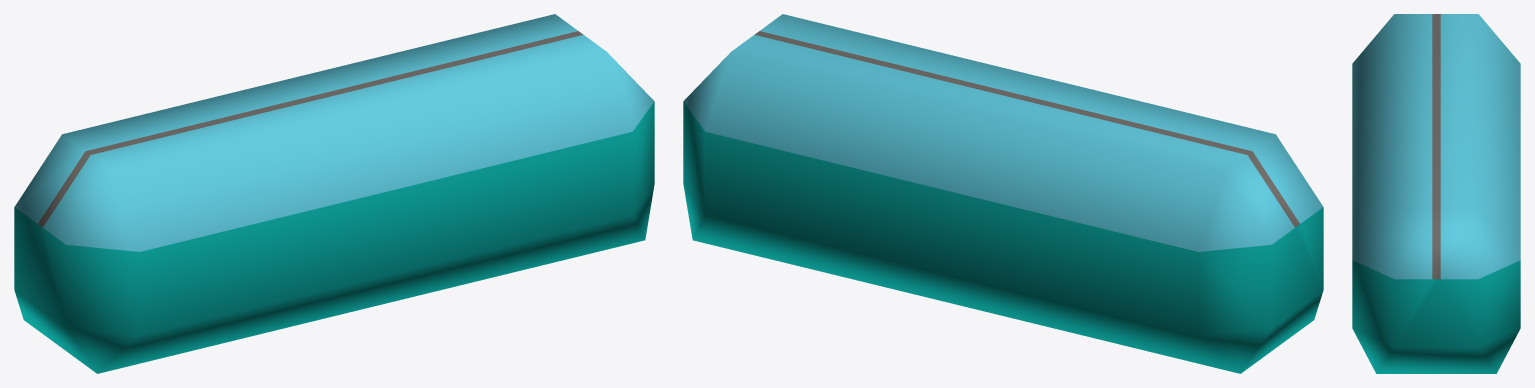
3 renders of one model, left to right at view 1: azimuth 30°, elevation 25°; view 2: azimuth 150°, elevation 25°; view 3: azimuth 270°, elevation 25°, orthographic. The views are drawn at different scales.
Parts seen in each view (by area): view 1: polySurface360; view 2: polySurface360; view 3: polySurface360.
Part boxes in pixels (<box>): polySurface360: <box>14,14,654,373</box>; polySurface360: <box>683,14,1323,373</box>; polySurface360: <box>1352,14,1520,373</box>.
Bounding box in the file's own units: 35.54 × 10.8 × 10.8.
